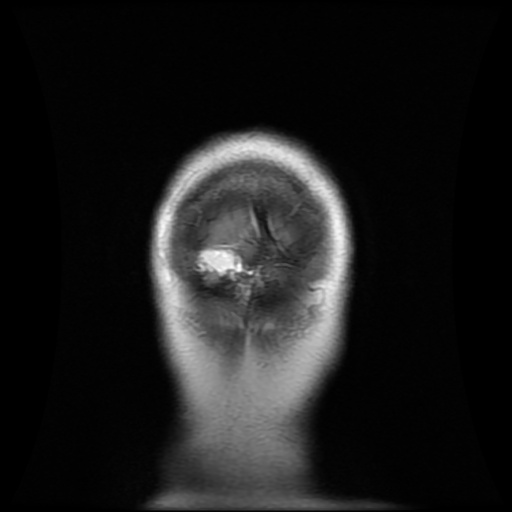meningioma: (194, 247, 254, 280)
